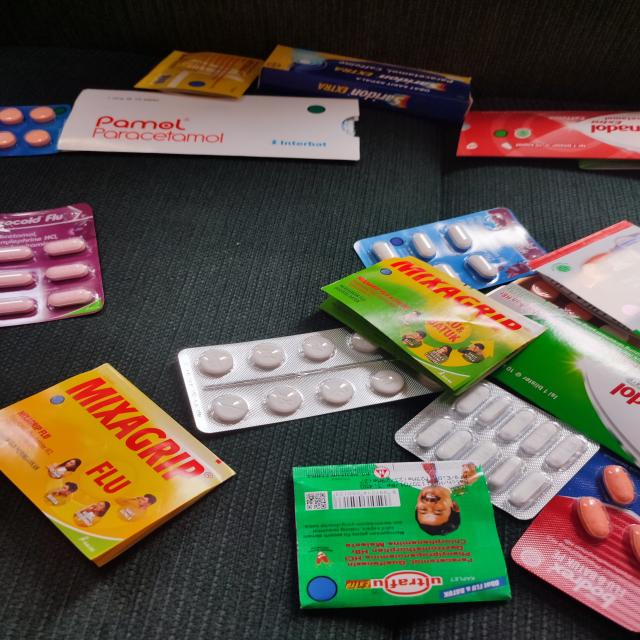B3: (0, 362, 237, 566), (317, 253, 550, 400), (290, 461, 513, 607), (397, 379, 602, 518), (482, 285, 640, 465), (179, 327, 444, 434), (510, 444, 640, 633), (55, 90, 359, 159), (354, 205, 548, 291), (258, 43, 473, 120), (0, 205, 103, 325), (458, 111, 640, 157), (132, 49, 265, 101), (0, 106, 70, 156)
